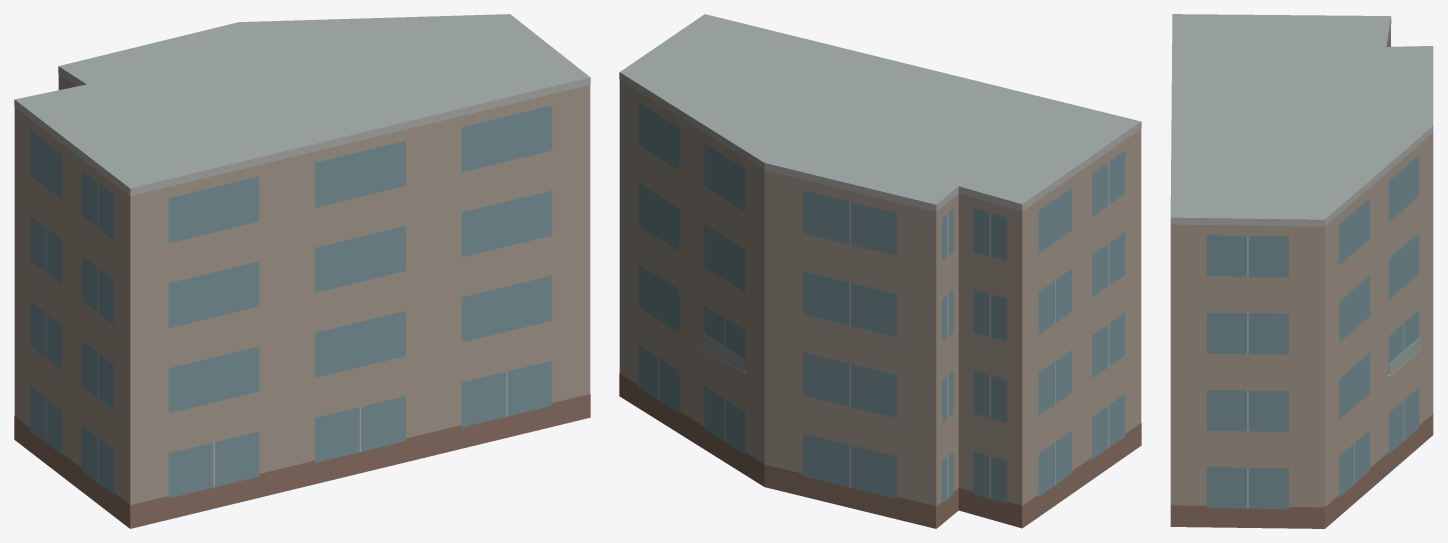
The model's file is survey-upis-32996791.glb.
The picture shows the model from 3 angles, left to right: view 1: azimuth 30°, elevation 25°; view 2: azimuth 150°, elevation 25°; view 3: azimuth 270°, elevation 25°; orthographic projection. The views are drawn at different scales.
Parts seen in each view (by area): view 1: survey-upis-32996791.tmp; view 2: survey-upis-32996791.tmp; view 3: survey-upis-32996791.tmp.
Part boxes in pixels (x1,y1,x2,y2): survey-upis-32996791.tmp: (14, 14, 590, 528); survey-upis-32996791.tmp: (619, 14, 1141, 528); survey-upis-32996791.tmp: (1170, 14, 1433, 528).
Bounding box in the file's own units: 15.63 × 10.95 × 8.44.
